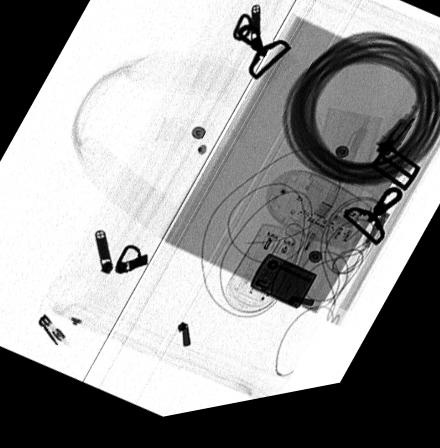Lighter: (249, 263, 317, 320)
